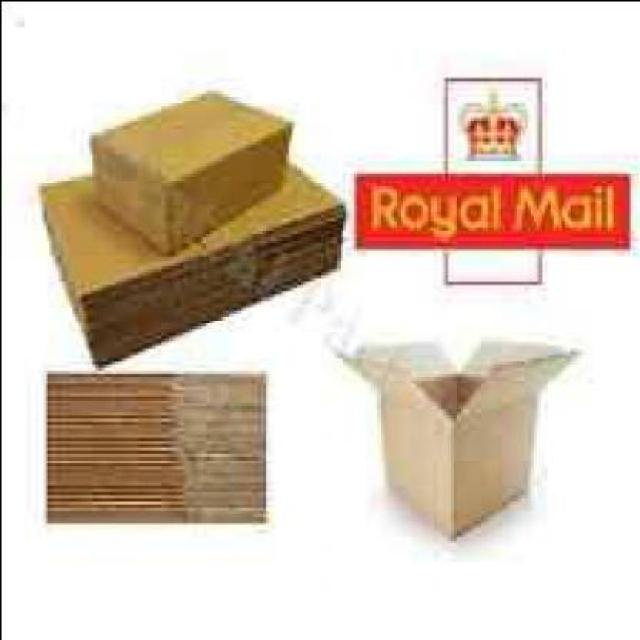CARDBOARD: (37, 146, 338, 360), (338, 334, 574, 528), (82, 86, 287, 252), (42, 362, 262, 516)
